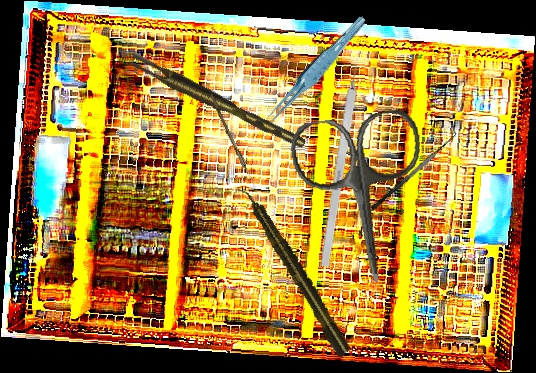Handpiece: (236, 180, 354, 361)
Hook Surgical: (319, 49, 364, 267)
Iris Scissors: (287, 107, 439, 292)
Spatula Surgical: (364, 125, 463, 212)
Surgical Spoon: (207, 92, 261, 195)
Tissue Forceps: (127, 46, 307, 158), (253, 14, 375, 129)
